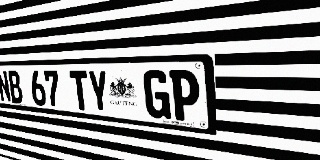6: (29, 70, 47, 106)
7: (43, 70, 62, 108)
B: (7, 71, 24, 104)
G: (143, 70, 171, 120)
N: (0, 71, 12, 103)
P: (169, 70, 200, 123)
T: (69, 70, 91, 111)
Y: (87, 70, 110, 113)
